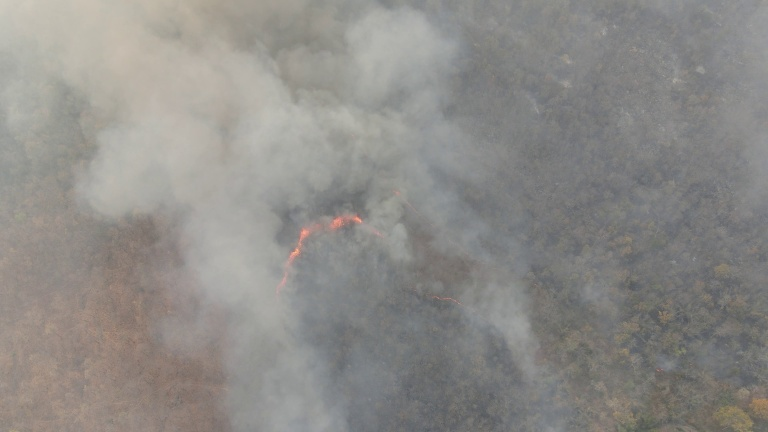fire: (281, 213, 390, 295), (431, 295, 473, 313)
smoke: (44, 6, 500, 422), (471, 277, 559, 387)
